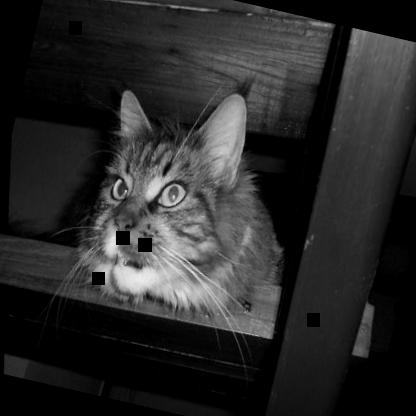cat: (66, 61, 314, 334)
